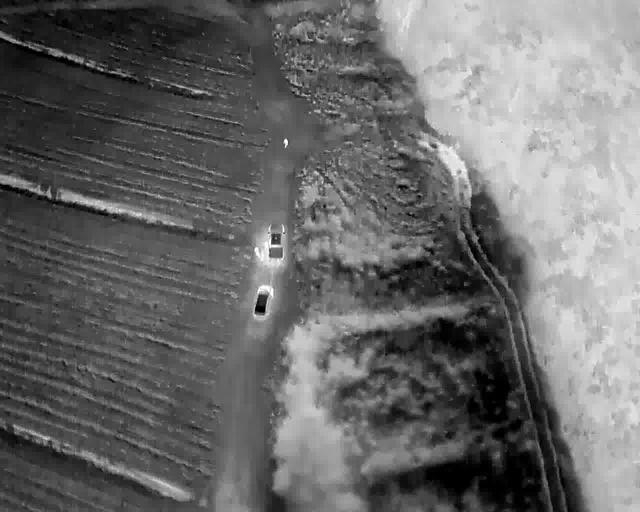car: (267, 223, 286, 260), (254, 283, 272, 317)
person: (282, 137, 289, 149), (253, 246, 260, 258), (258, 250, 265, 262), (262, 240, 269, 252)
